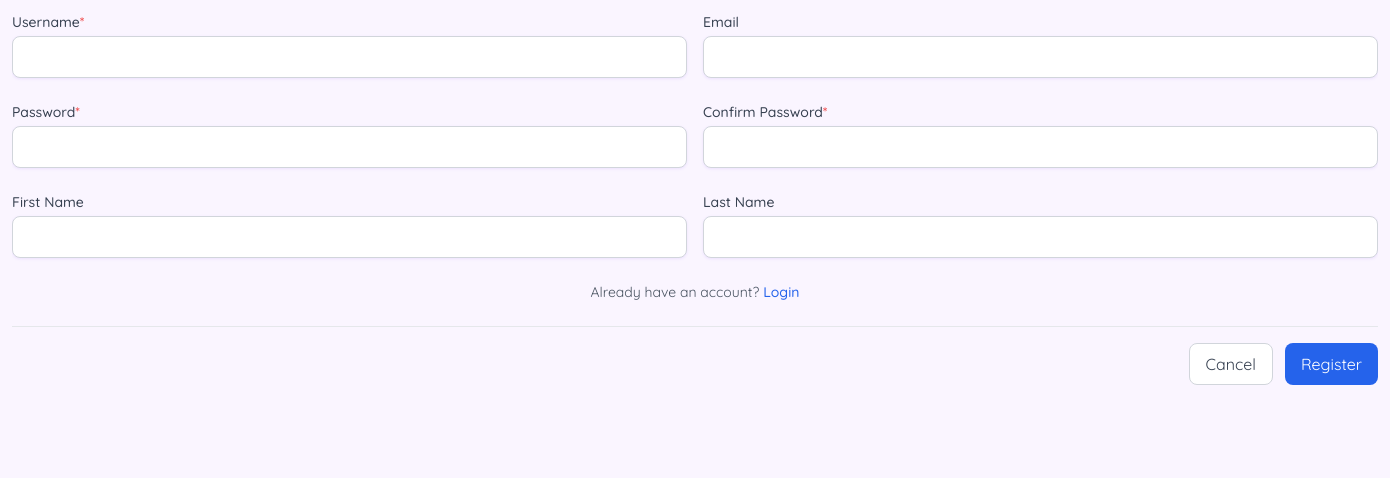
Test: RegisterForm › shows server error when registration fails
Type "testUser" into the field labelled "Username*".
click(350, 57); type("testUser")  # box [12,36,687,78]
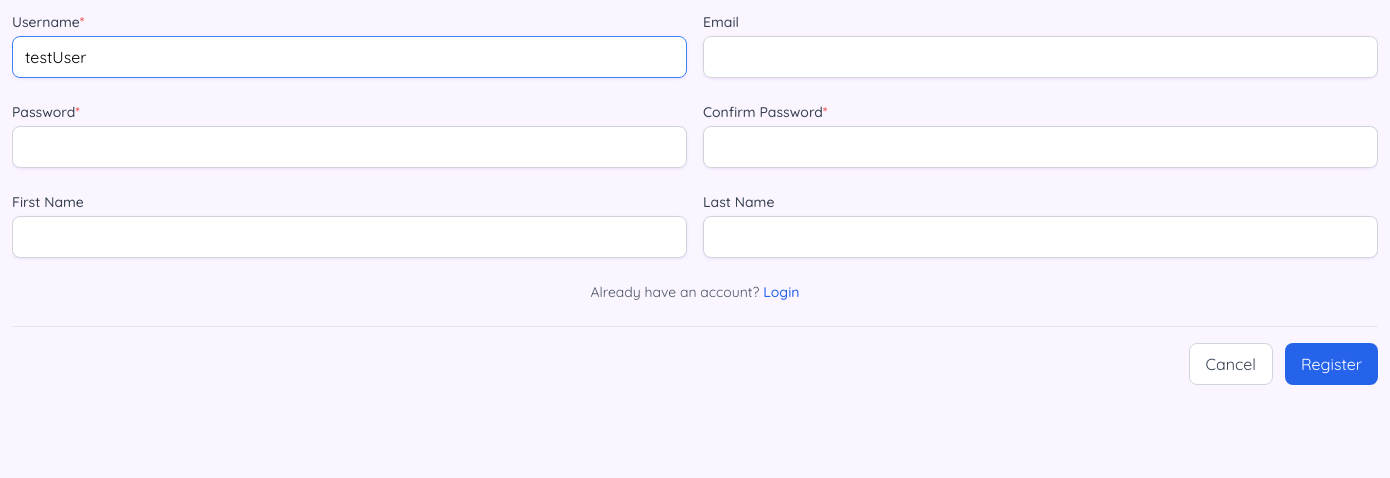
Type "password123" into the password field labelled "Password*".
click(350, 147); type("password123")  # box [12,126,687,168]
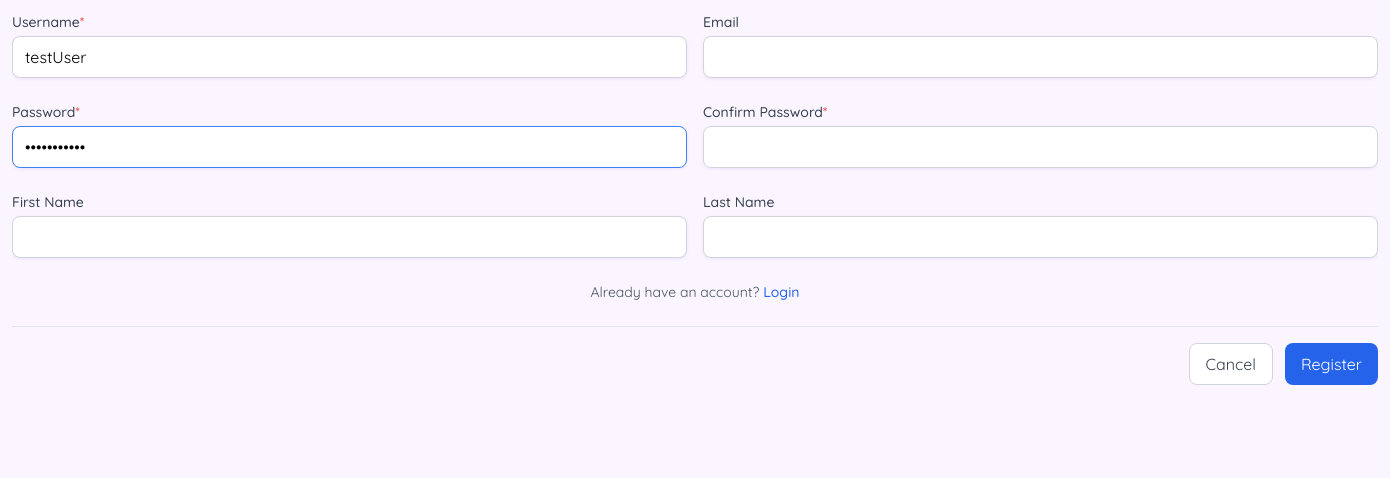
Type "password123" into the password field labelled "Confirm Password*".
click(1040, 147); type("password123")  # box [703,126,1378,168]
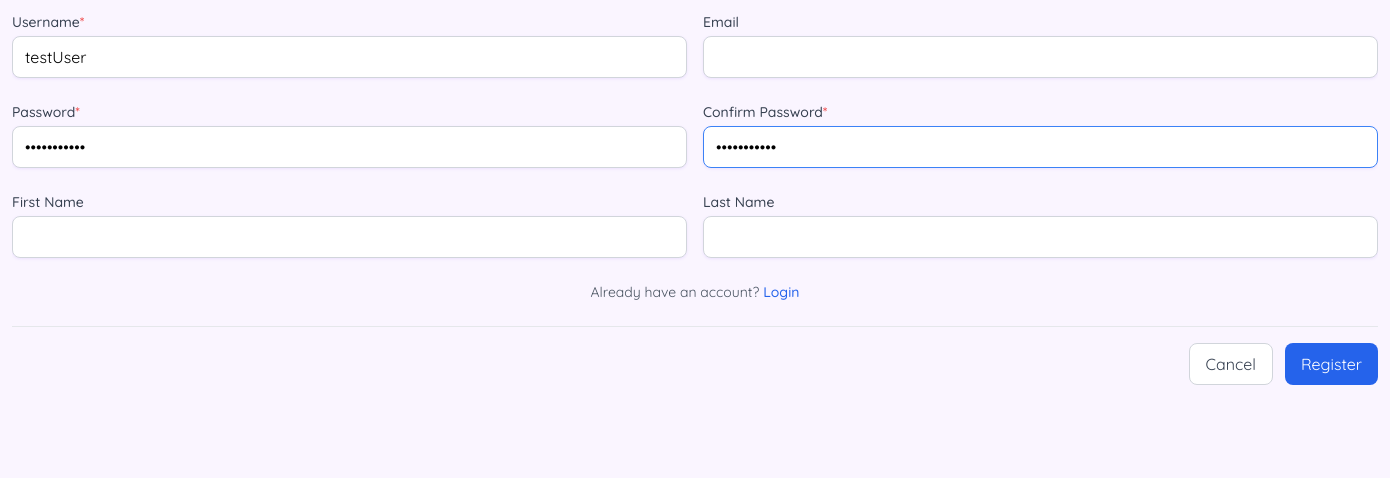
Click the button "Register".
click(1331, 364)  # box [1285,343,1378,385]
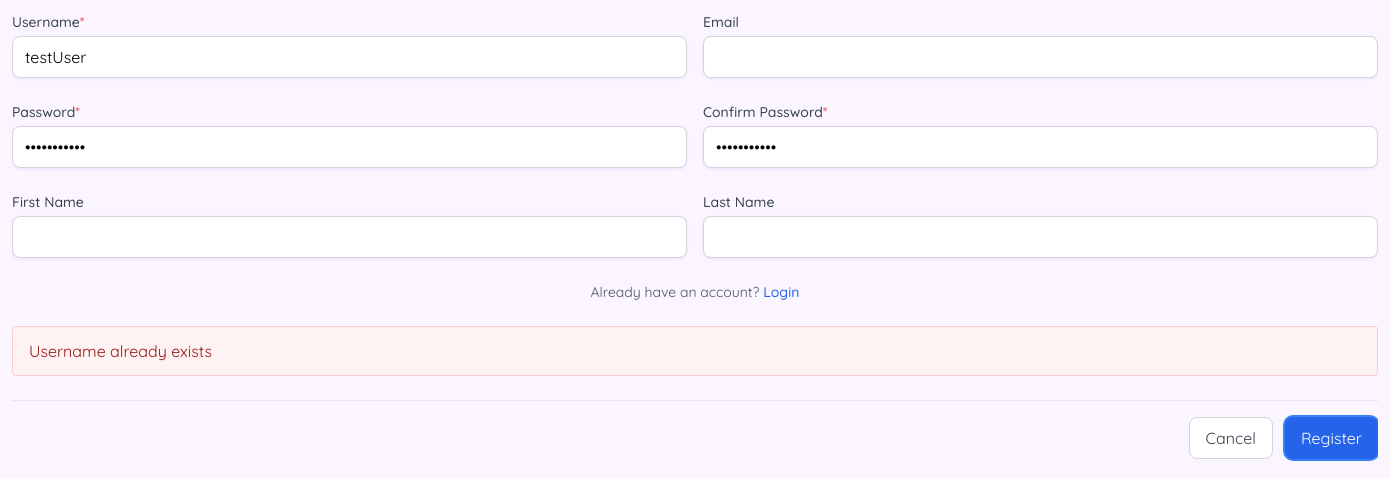
Result: the text "Username already exists" is shown at [12,326,1378,376]
